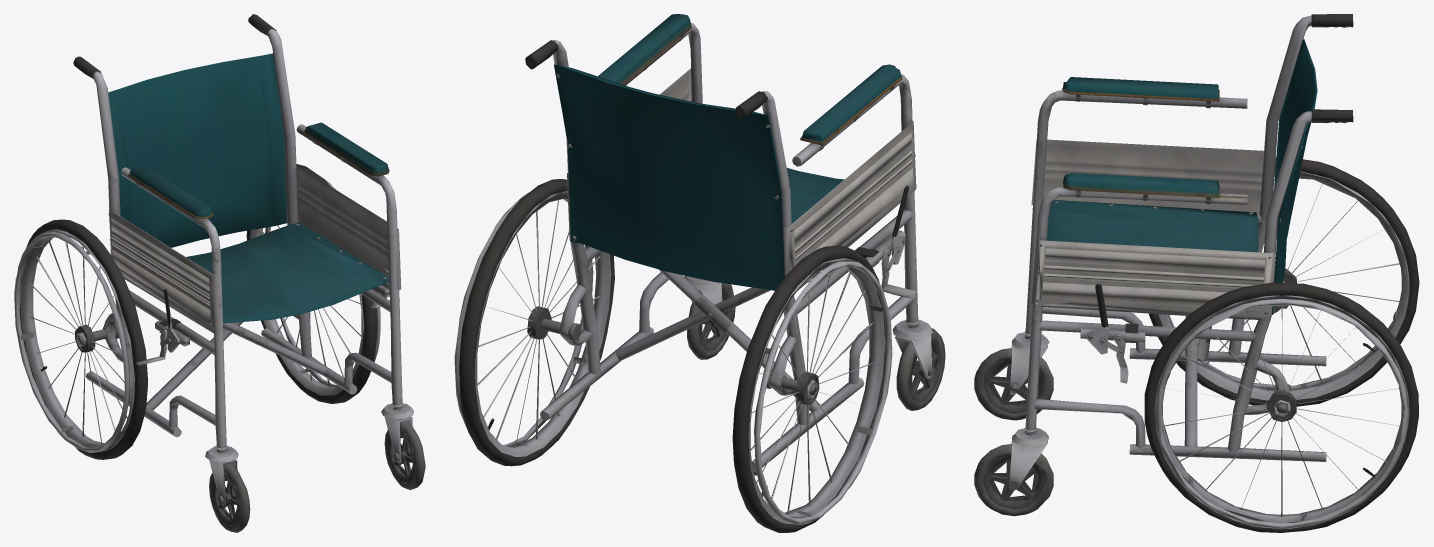
File: wheelchair_01.glb
3 views of the same model, side by side, from view 1: azimuth 30°, elevation 25°; view 2: azimuth 150°, elevation 25°; view 3: azimuth 270°, elevation 25° (orthographic). The views are drawn at different scales.
Visible parts, largest first — view 1: wheelchair_01; view 2: wheelchair_01; view 3: wheelchair_01.
Part boxes in pixels (x1,y1,x2,y2): wheelchair_01: [14, 14, 425, 532]; wheelchair_01: [454, 14, 945, 532]; wheelchair_01: [974, 14, 1419, 532].
Bounding box in the file's own units: 0.824 × 1.1 × 1.09.
1 material, 1 textured.
